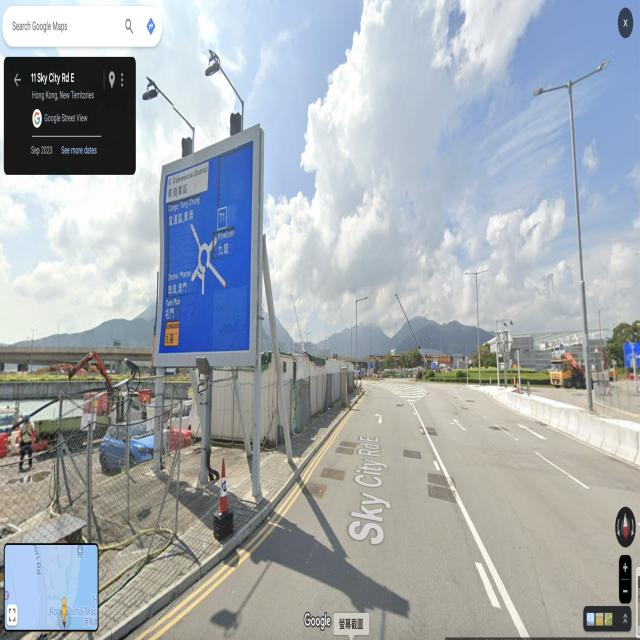Direction-Sign: (161, 144, 252, 351), (625, 344, 640, 366), (431, 362, 436, 368), (370, 362, 372, 367)
